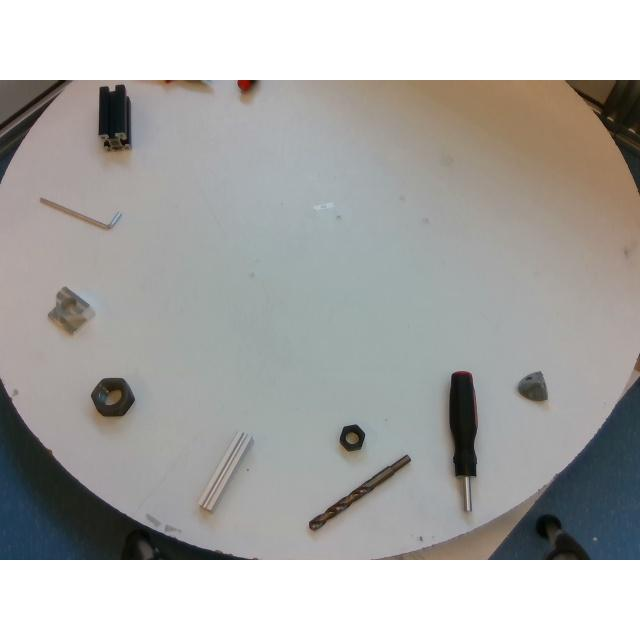Drill: (308, 454, 410, 530)
F20_20_G: (198, 431, 252, 511)
M20: (339, 424, 365, 452)
M30: (90, 378, 134, 416)
S40_40_B: (98, 84, 130, 148)
